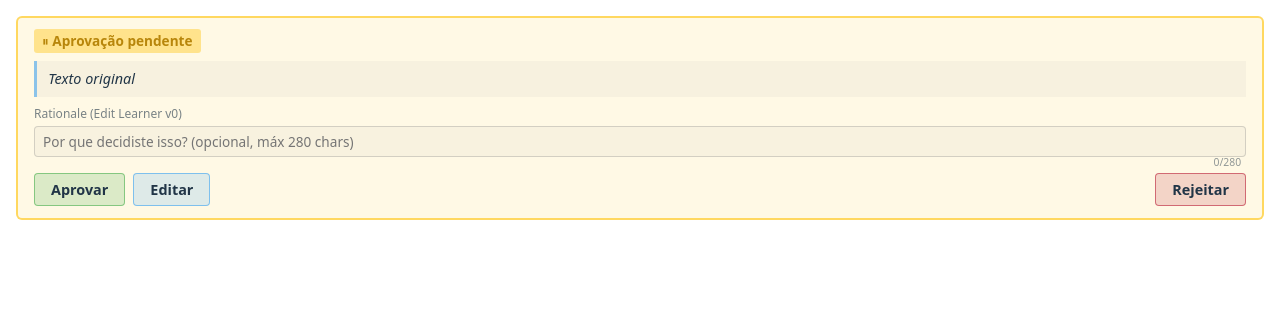
Test: ApprovalGate.svelte — actions › Cancelar edição volta pro view sem textarea
Click the button with test id "edit-button": [172, 190] box 133,173 -> 210,206
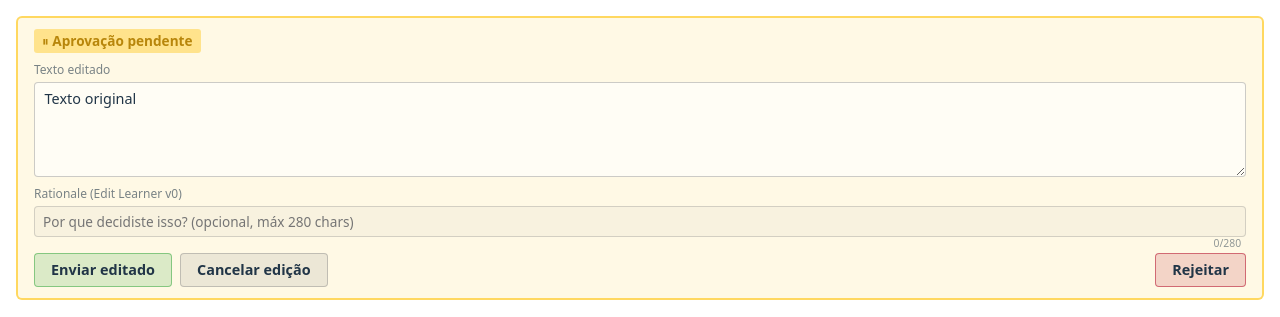
Expected: the text box with test id "edit-textarea" is shown, 34,82 -> 1246,177
Click the button with test id "cancel-edit-button": [254, 270] box 180,253 -> 328,287
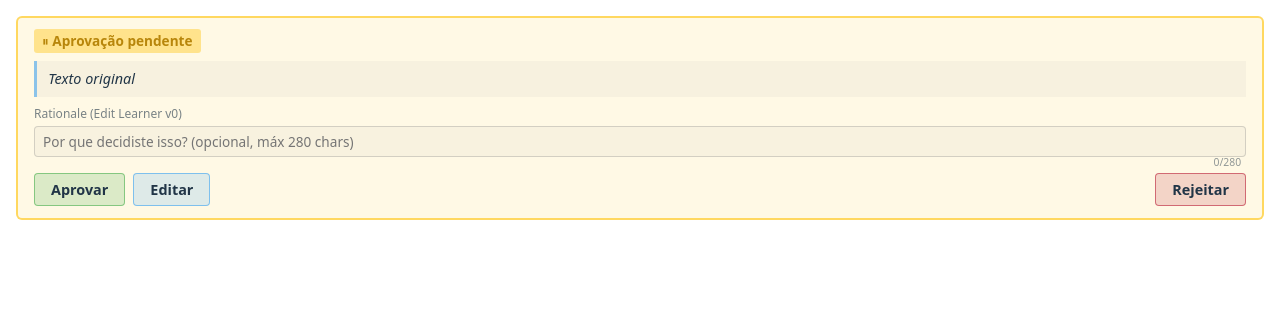
Expected: the text box with test id "edit-textarea" is gone
Expected: the text "Texto original" is shown, 34,61 -> 1246,97
